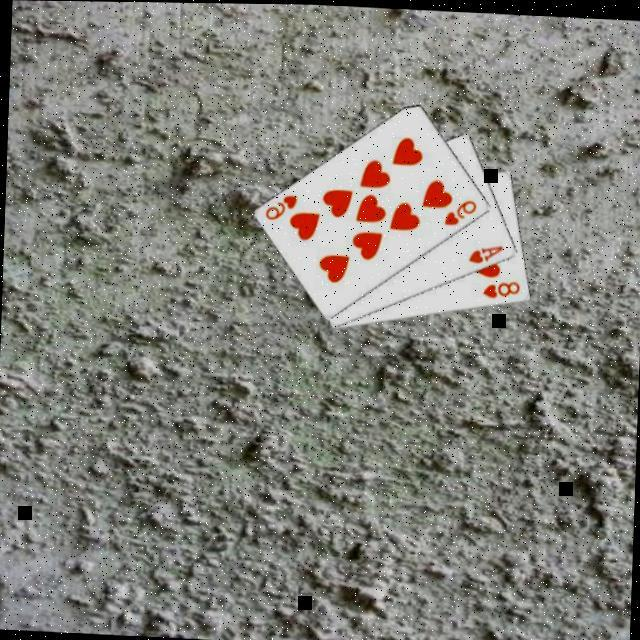8H: (478, 274, 521, 299)
9H: (438, 194, 478, 226), (260, 188, 298, 220)
AH: (462, 238, 504, 264)
